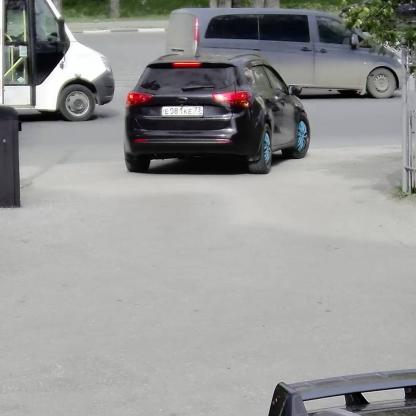plate: (162, 106, 203, 116)
